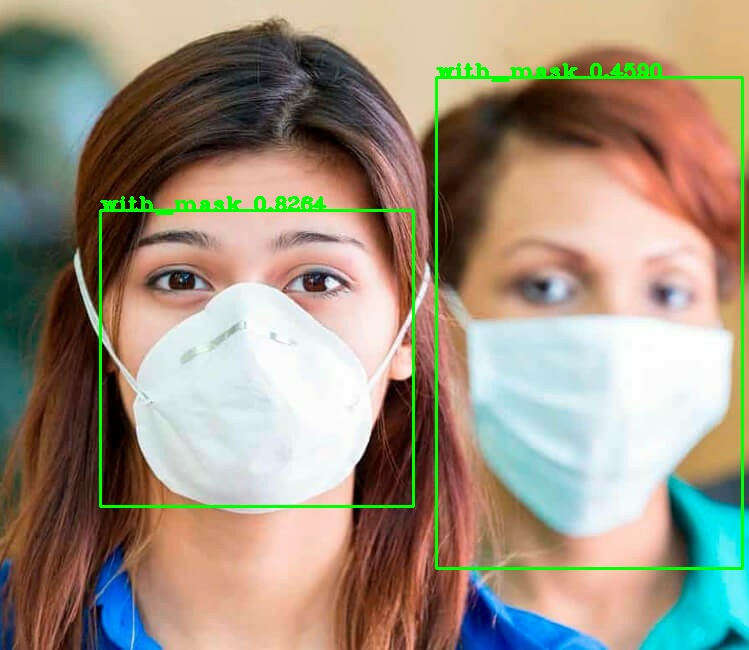with_mask: (67, 97, 454, 533), (445, 130, 744, 513)
